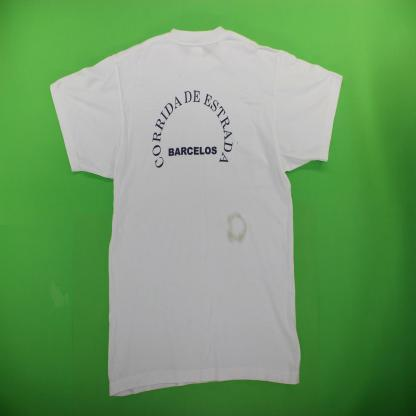stain: (224, 208, 250, 248)
